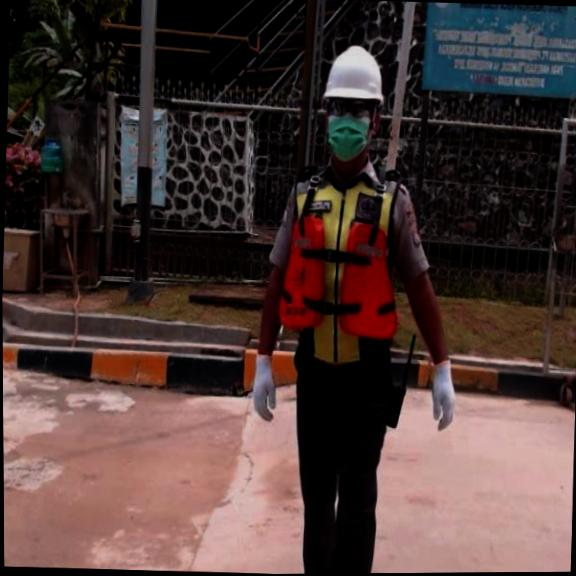safety_vest: (275, 211, 400, 335)
